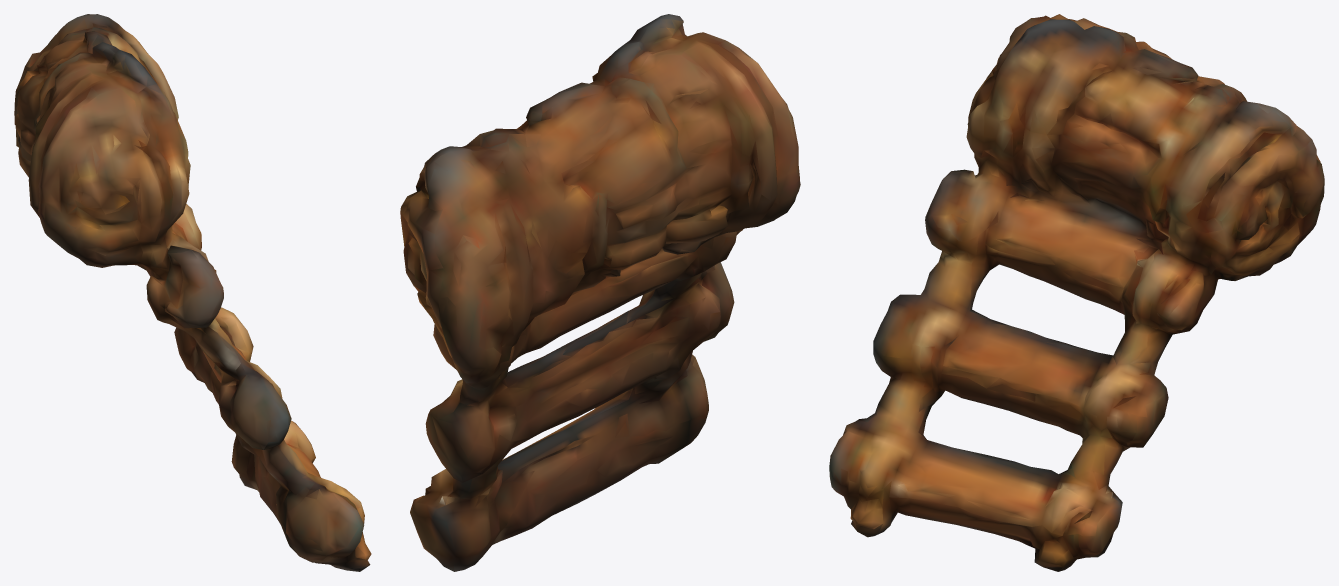
File: rope_ladder.glb
3 views of the same model, side by side, from view 1: azimuth 30°, elevation 25°; view 2: azimuth 150°, elevation 25°; view 3: azimuth 270°, elevation 25° (orthographic). The views are drawn at different scales.
Parts seen in each view (by area): view 1: model; view 2: model; view 3: model.
Part boxes in pixels (box(x1,y1,x2,y2)): model: box(14, 14, 371, 571); model: box(400, 14, 800, 571); model: box(829, 14, 1324, 571).
Size of the model in its own units: 1 by 1.6 by 1.52.
Materials: 1 (1 with a texture image).
